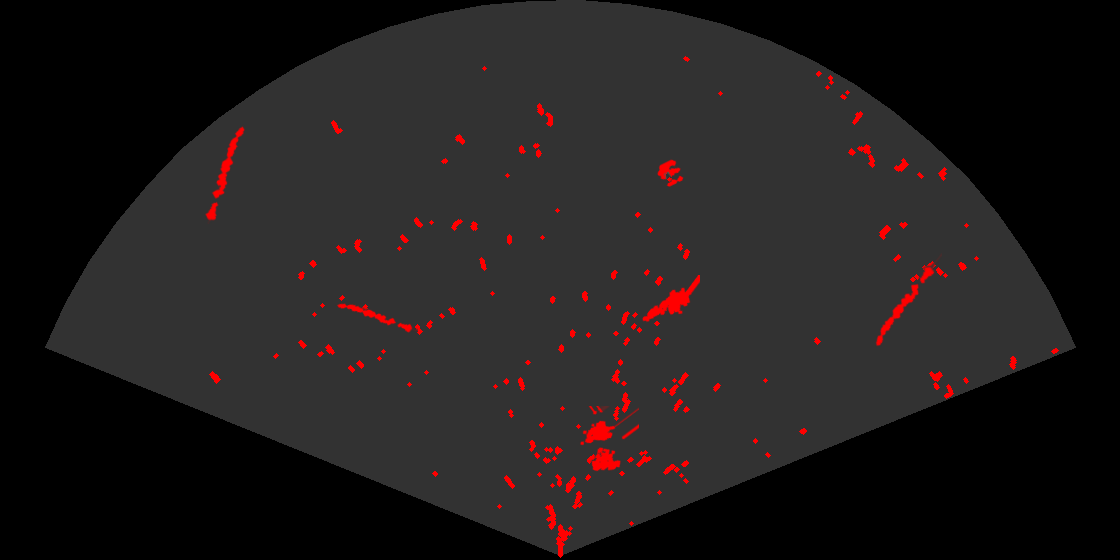ball: (656, 158, 685, 188)
cage: (579, 406, 639, 473)
chain: (874, 253, 942, 348), (204, 124, 246, 224), (335, 302, 418, 334)
frogman: (641, 275, 700, 324)
